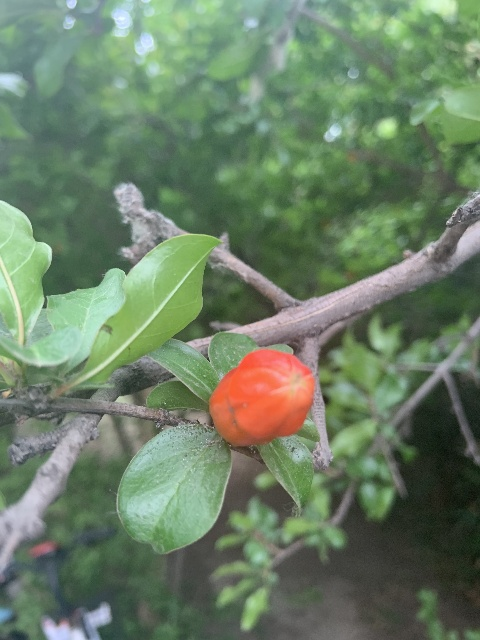bud: (209, 349, 314, 447)
